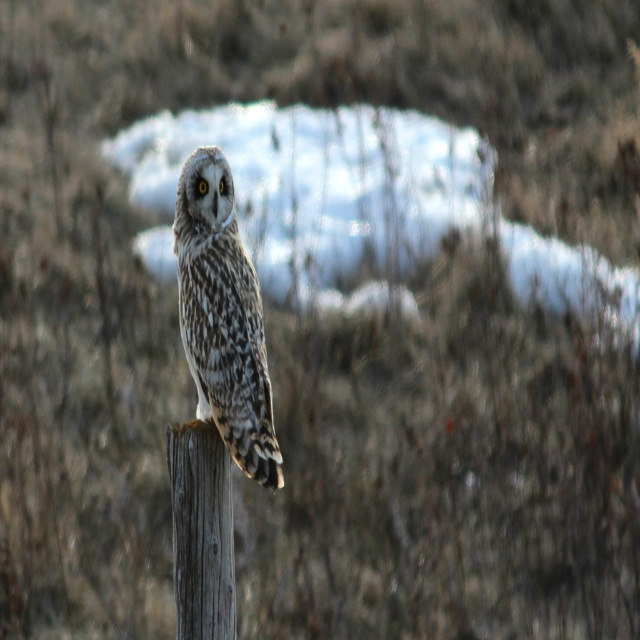Owl: (170, 140, 285, 499)
